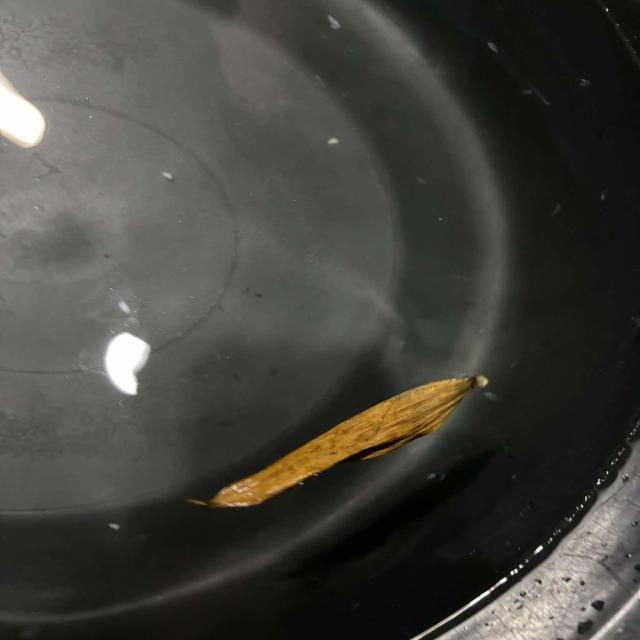Leaf: (172, 358, 513, 528)
